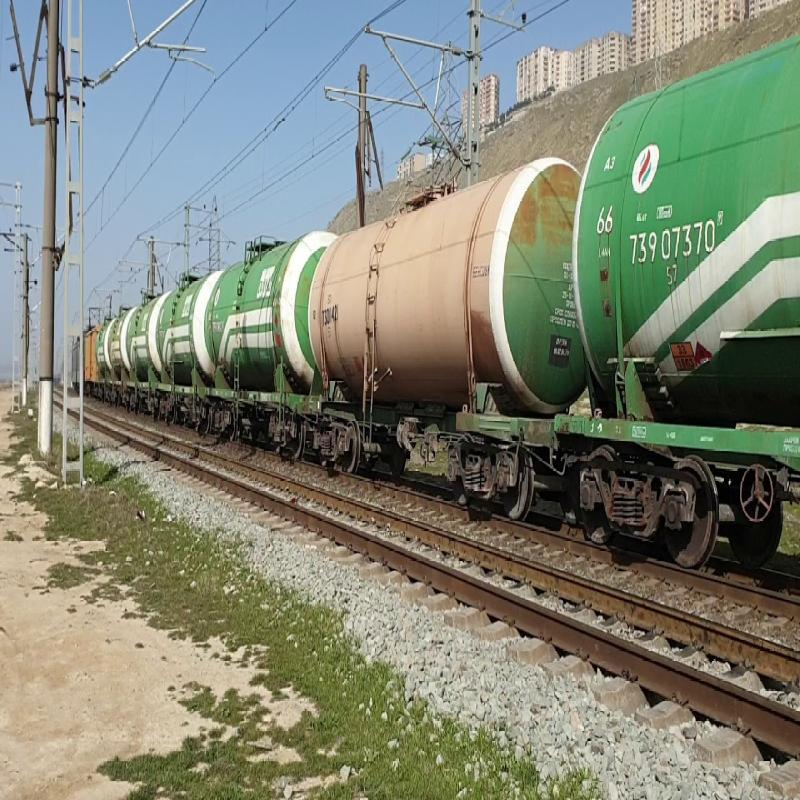train: (308, 73, 671, 537), (209, 219, 361, 467), (151, 265, 234, 442)
